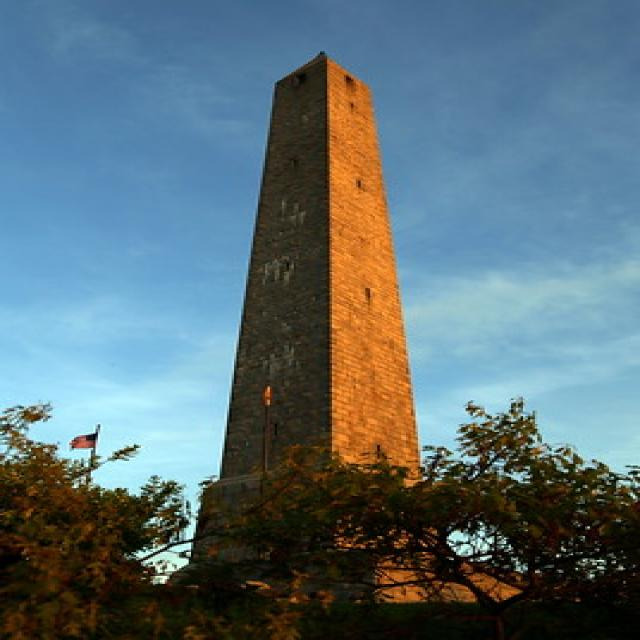Normal_building: (158, 46, 472, 629)
